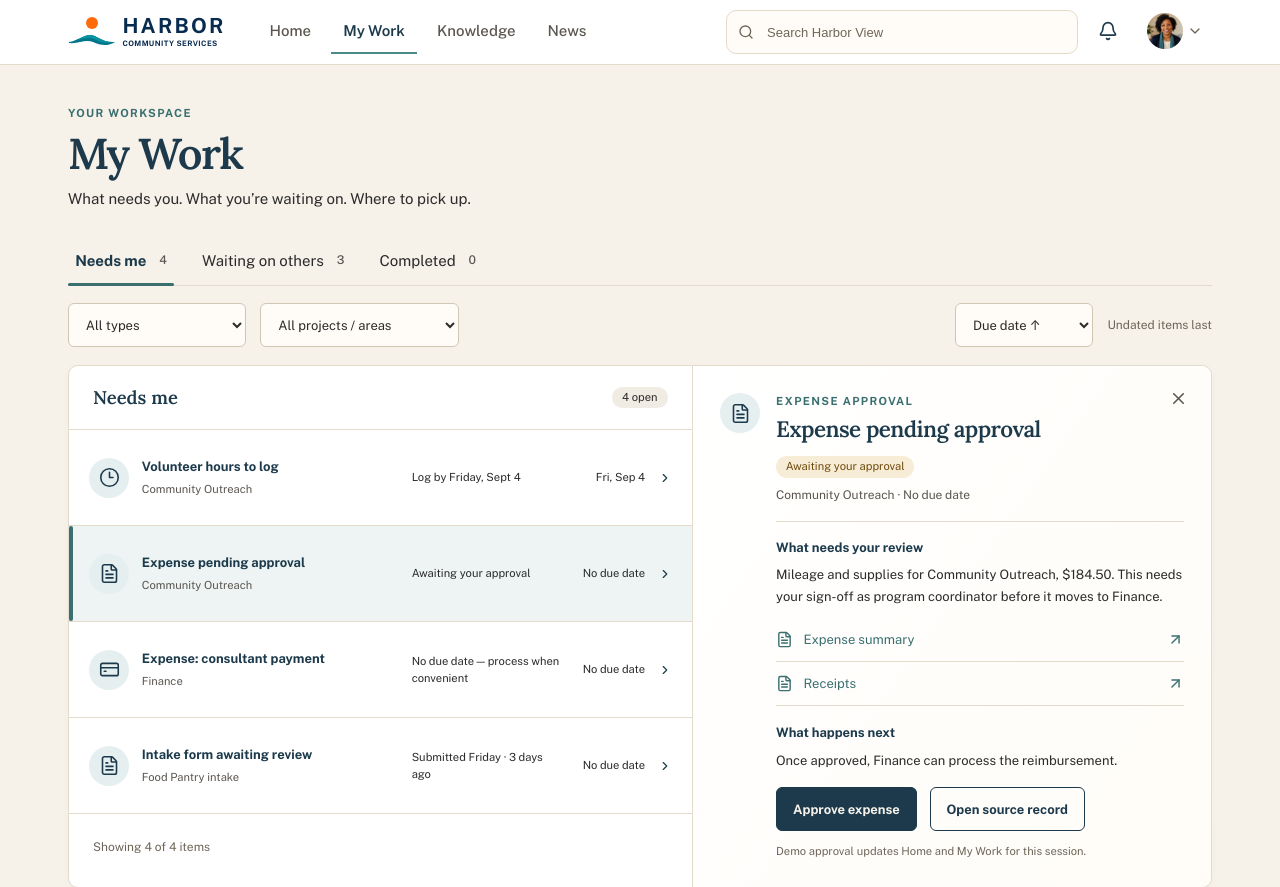
Test: My Work › explains disconnected documents and closes details with Escape
Click the button "Receipts".
click(830, 683)  # box [776,662,1184,706]
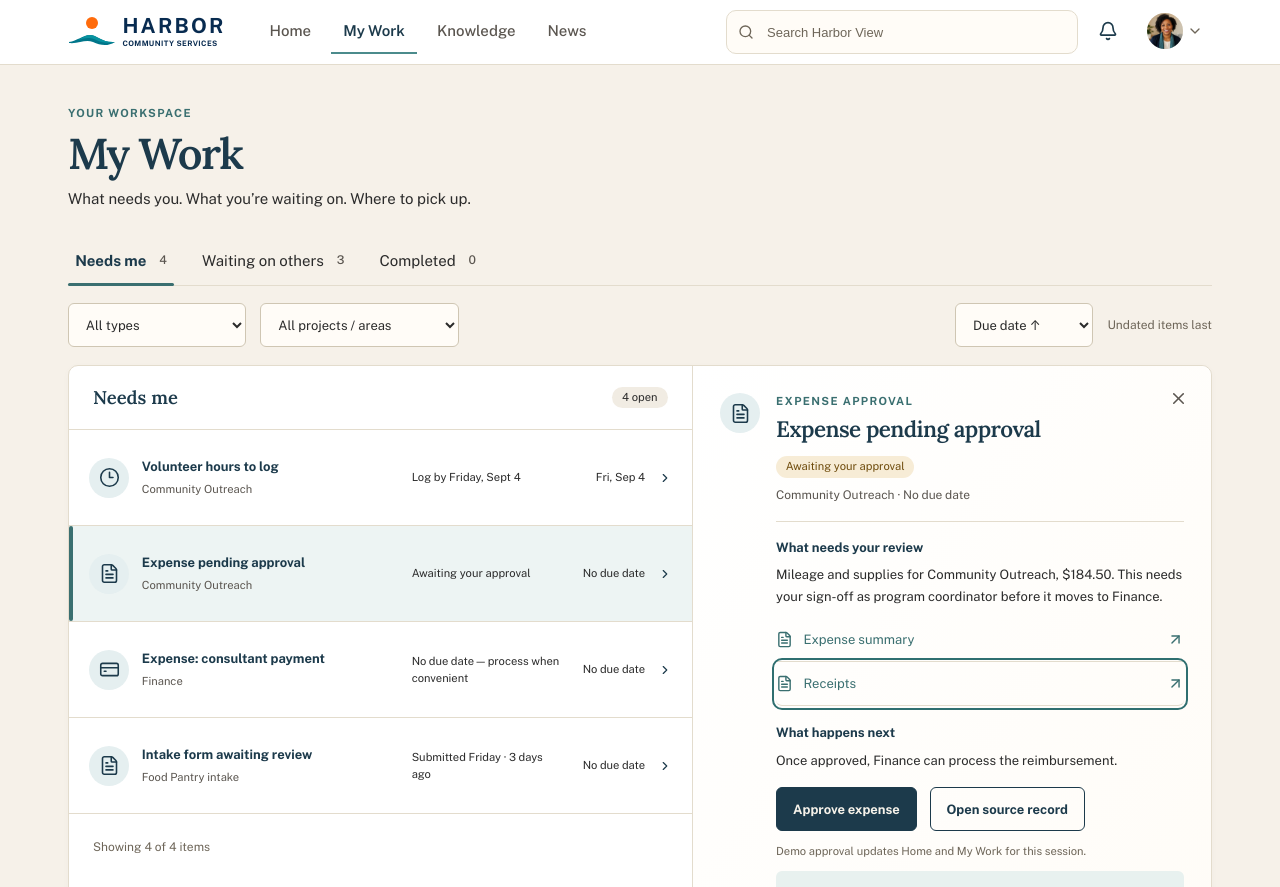
Click the button "Open source record".
click(1007, 809)  # box [930,787,1085,831]
(page scrolled)
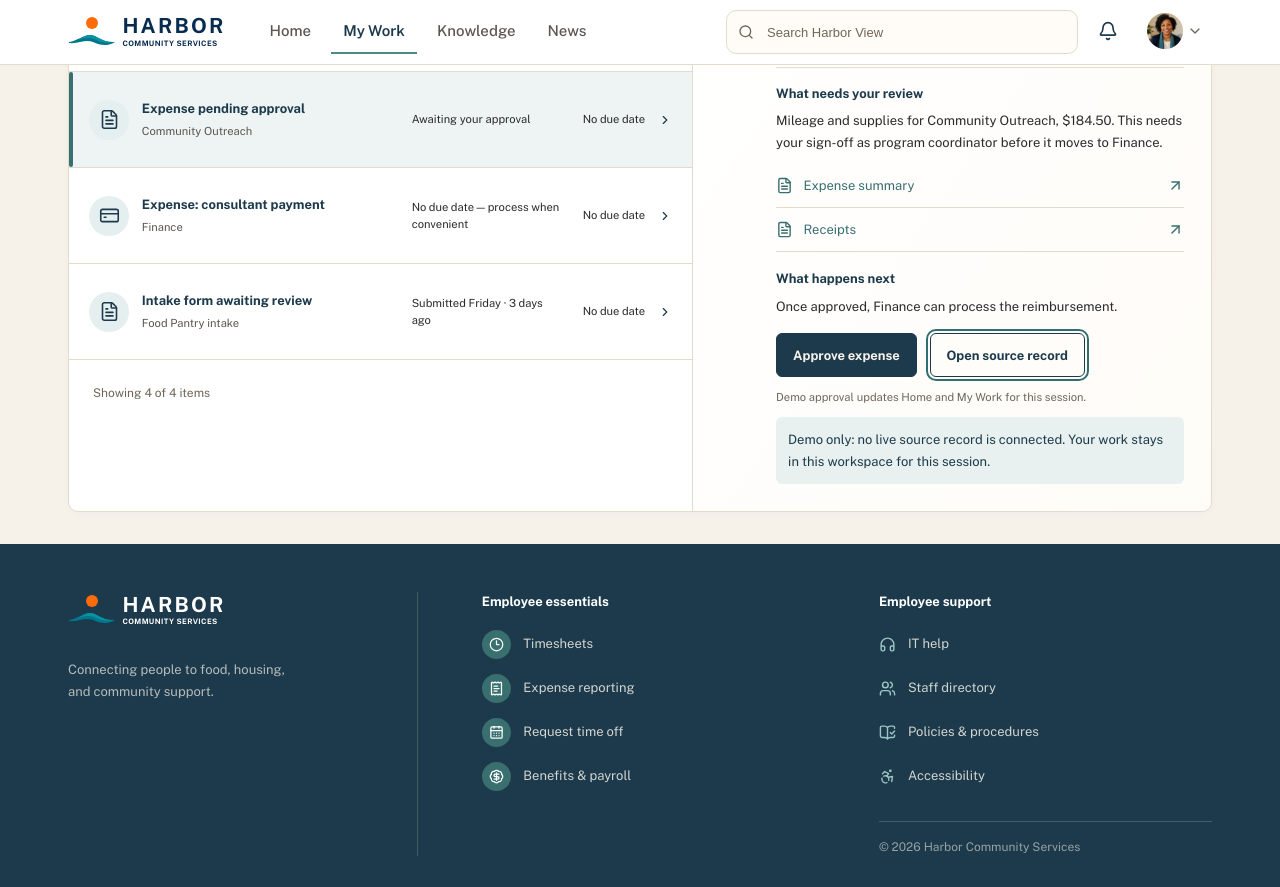
Expected: the text "no live source record is connected" is shown, [788,432,1163,469]
Press Escape
(page scrolled)
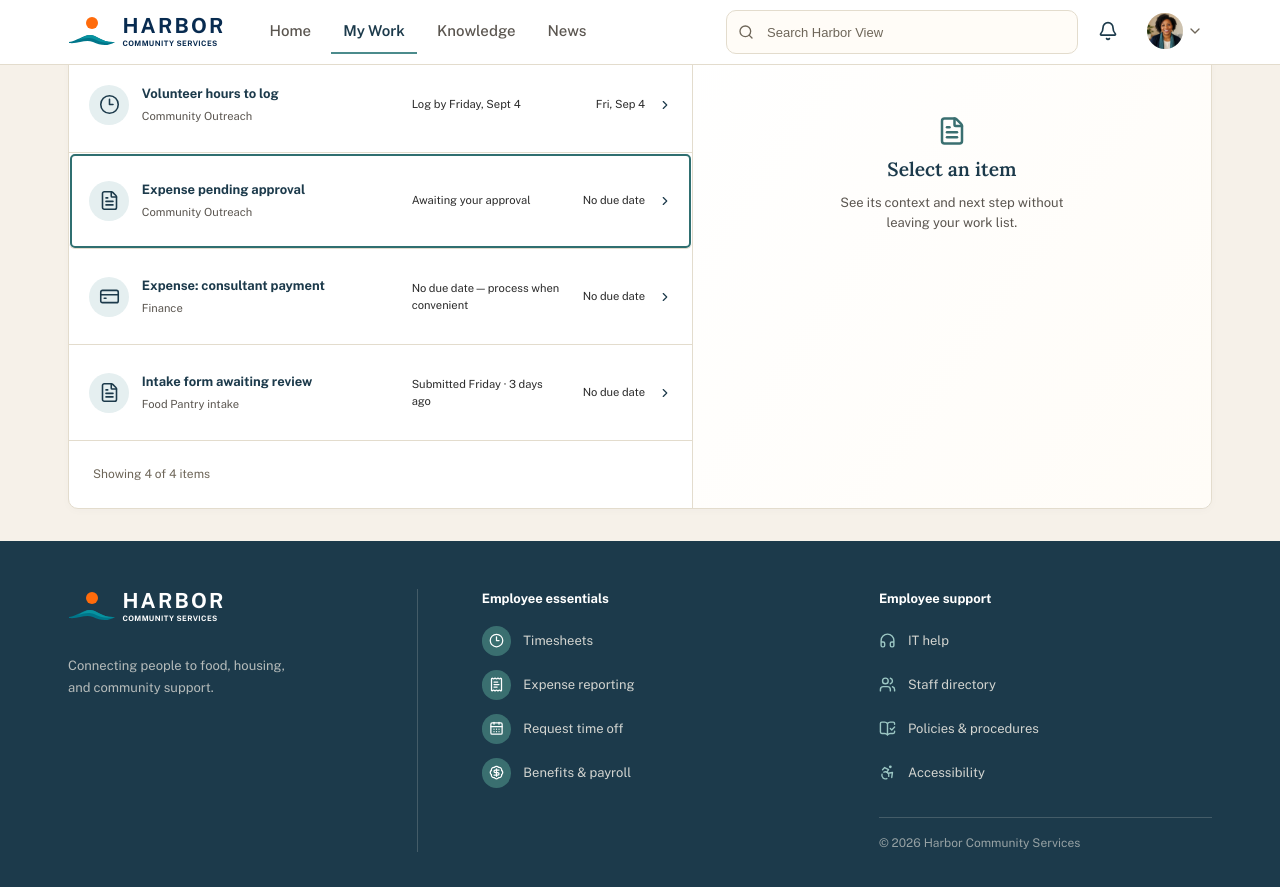
Expected: the heading "Select an item" is shown, [887,157,1016,181]
